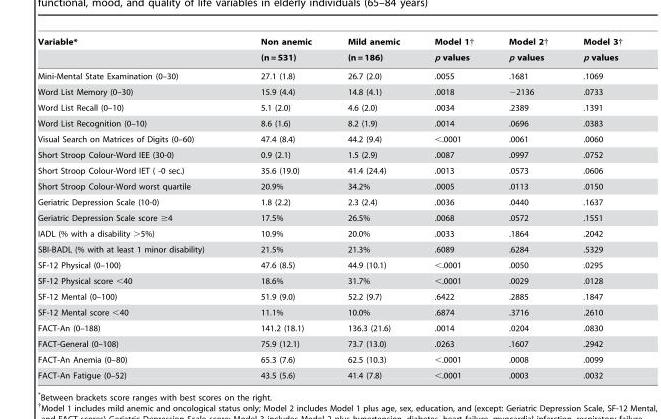table: (37, 36, 621, 379)
table column: (37, 36, 231, 379), (231, 36, 328, 379), (328, 36, 416, 379), (416, 36, 490, 379), (490, 36, 564, 379), (564, 36, 621, 379)
table column header: (37, 36, 621, 66)
table row: (37, 49, 621, 66), (37, 66, 621, 83), (37, 83, 621, 99), (37, 99, 621, 115), (37, 115, 621, 131), (37, 146, 621, 162), (37, 162, 621, 178), (37, 178, 621, 194), (37, 209, 621, 225), (37, 225, 621, 241), (37, 241, 621, 257), (37, 272, 621, 288), (37, 288, 621, 304), (37, 304, 621, 320), (37, 335, 621, 351), (37, 351, 621, 367), (37, 131, 621, 146), (37, 194, 621, 209), (37, 257, 621, 272), (37, 320, 621, 335), (37, 36, 621, 49), (37, 367, 621, 379)
table spanning cell: (37, 36, 231, 66), (231, 36, 328, 66), (328, 36, 416, 66), (416, 36, 490, 66), (490, 36, 564, 66), (564, 36, 621, 66)
